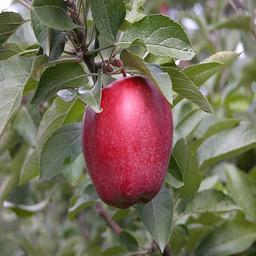apple: (84, 79, 173, 209)
